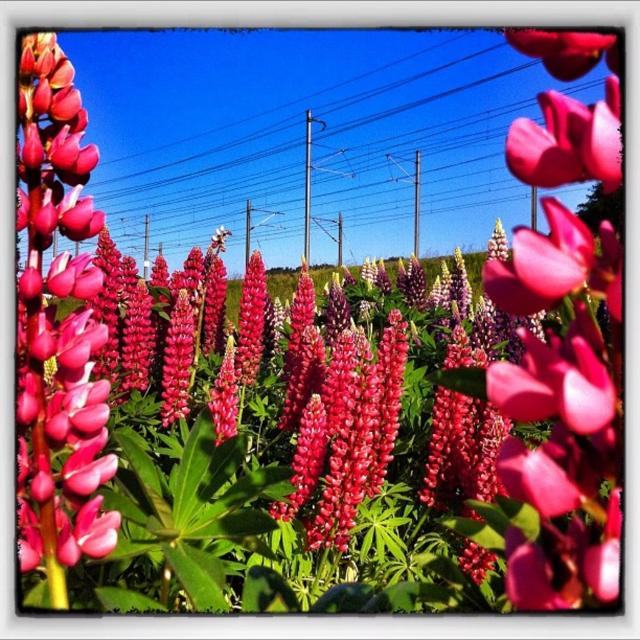Flower: (80, 218, 548, 592), (478, 26, 626, 614), (11, 34, 123, 572), (282, 324, 408, 546)
